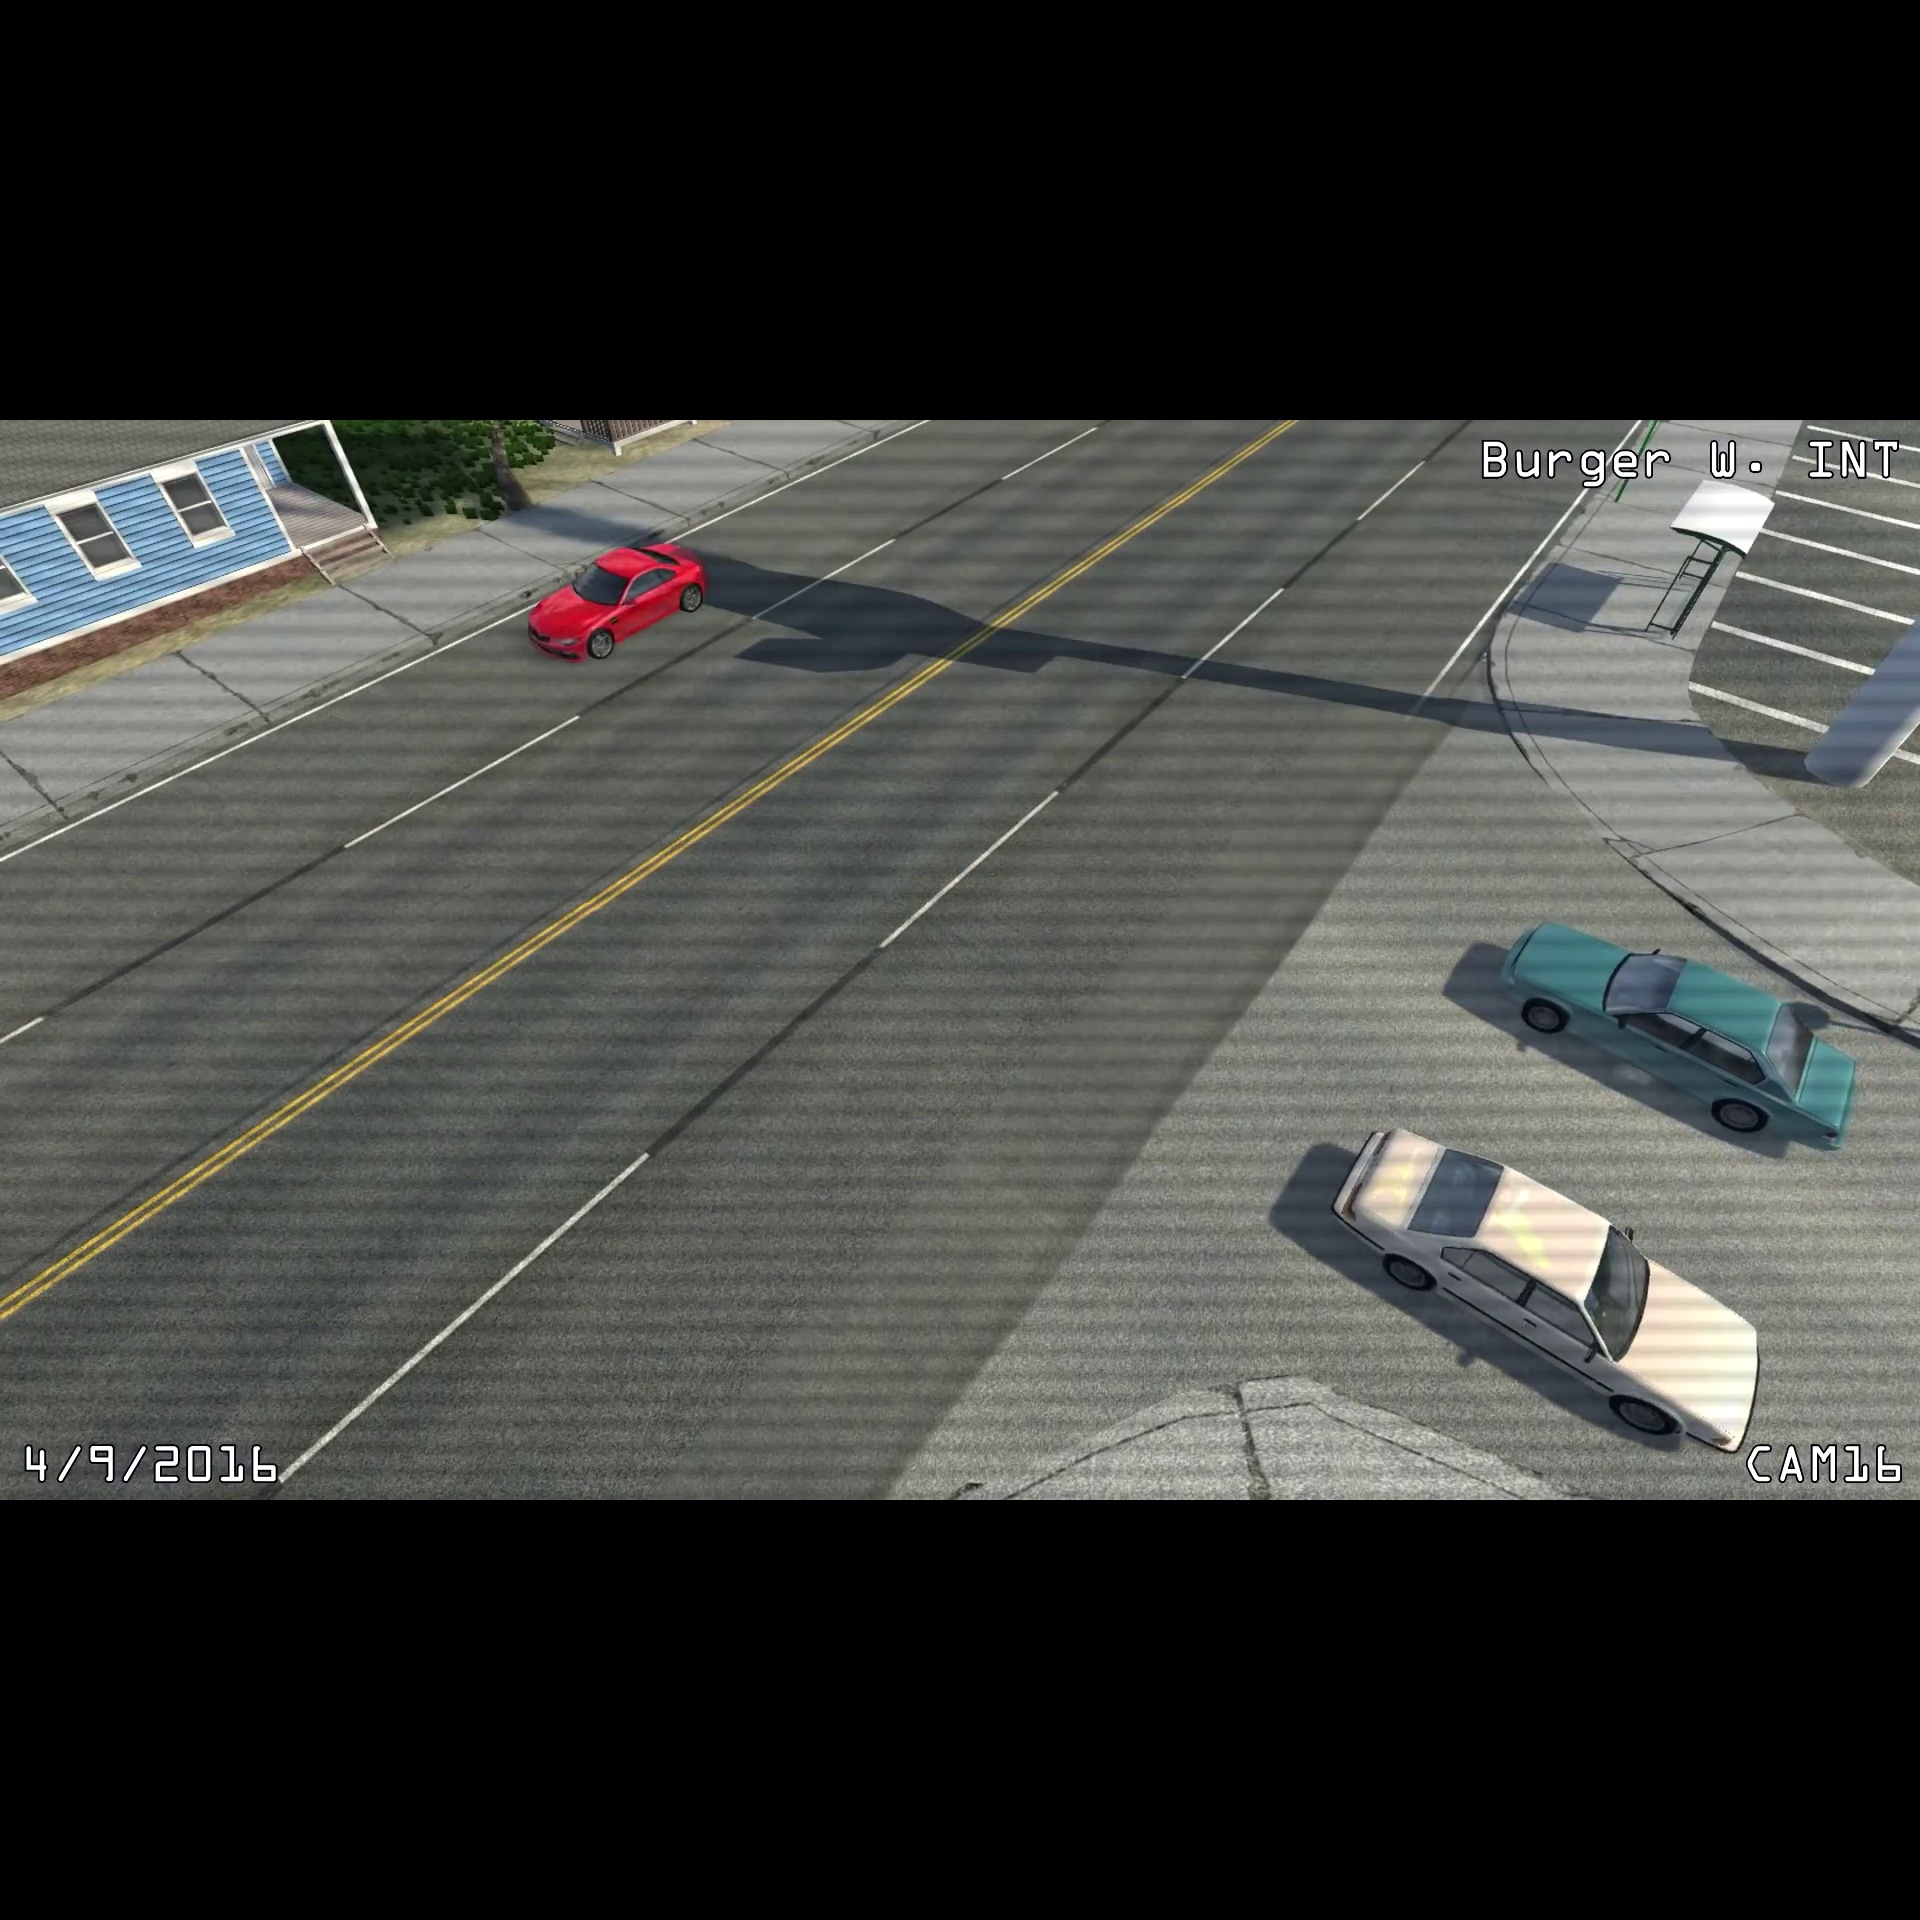vehicle: (1322, 1118, 1776, 1466), (1493, 911, 1864, 1160), (522, 529, 723, 665)
